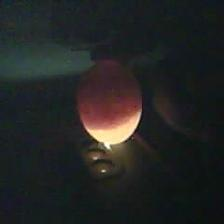fertile: (74, 57, 146, 148)
